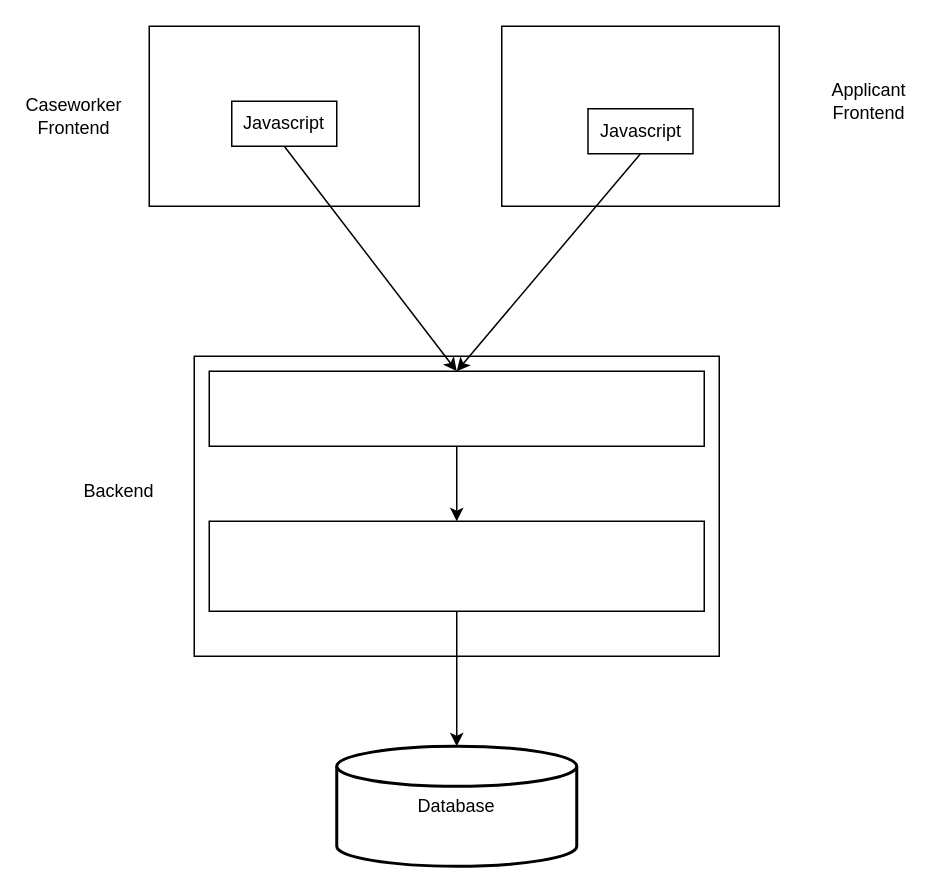
Image size: 932x894. Some labels were removed from this diagram. Each missing label, with the box of its shape:
Loss of earning Service: (208, 520, 704, 611)
RestAPI: (208, 370, 704, 446)
